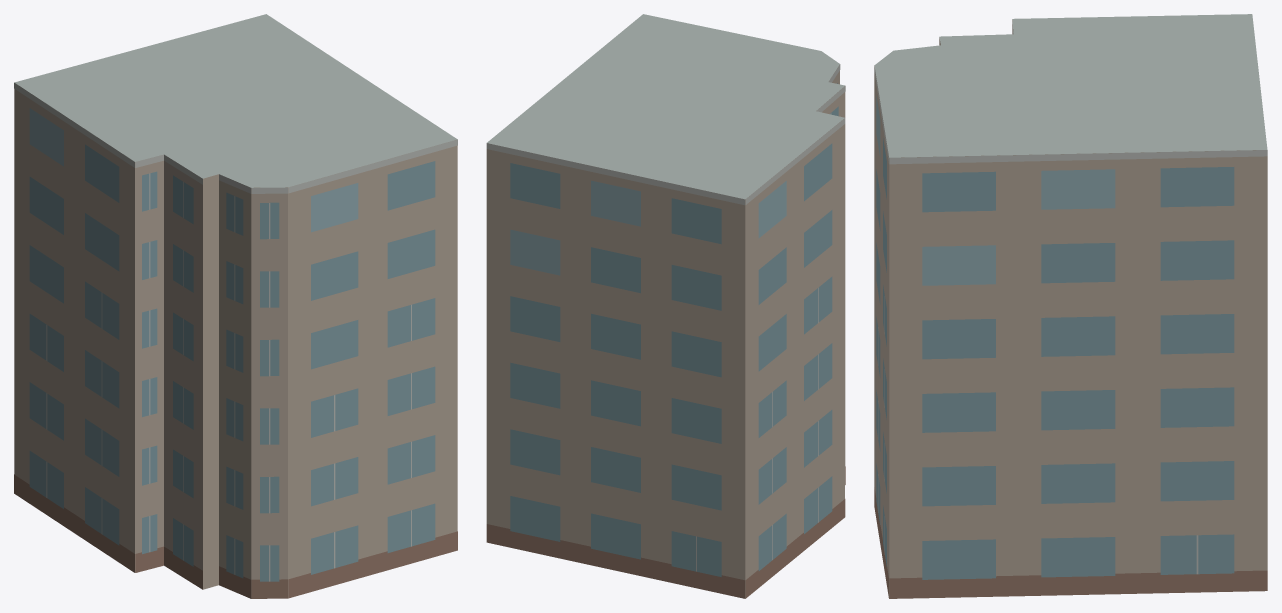
File: survey-upis-32740740.glb
3 views of the same model, side by side, from view 1: azimuth 30°, elevation 25°; view 2: azimuth 150°, elevation 25°; view 3: azimuth 270°, elevation 25° (orthographic). The views are drawn at different scales.
Parts seen in each view (by area): view 1: survey-upis-32740740.tmp; view 2: survey-upis-32740740.tmp; view 3: survey-upis-32740740.tmp.
Part boxes in pixels (bbox=[...]): survey-upis-32740740.tmp: bbox=[14, 14, 457, 598]; survey-upis-32740740.tmp: bbox=[486, 14, 845, 598]; survey-upis-32740740.tmp: bbox=[874, 14, 1267, 598].
Bounding box in the file's own units: 11.4 × 16.3 × 13.17.
